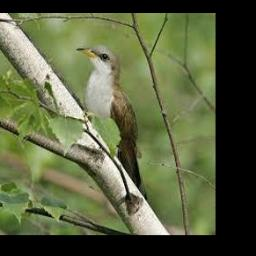Cuckoo: (77, 45, 148, 201)
